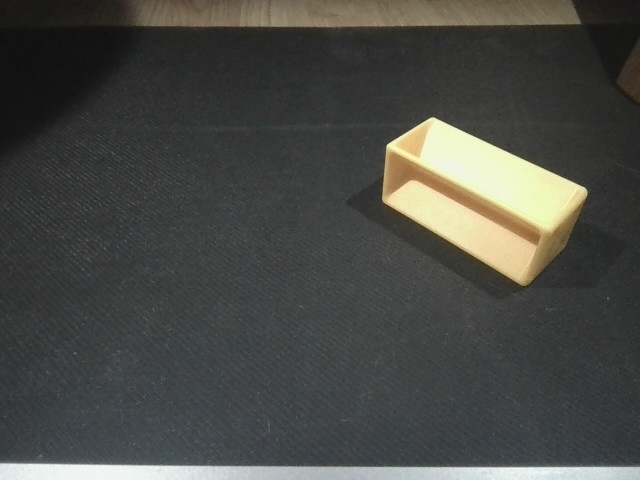YellowSample: (377, 114, 589, 294)
